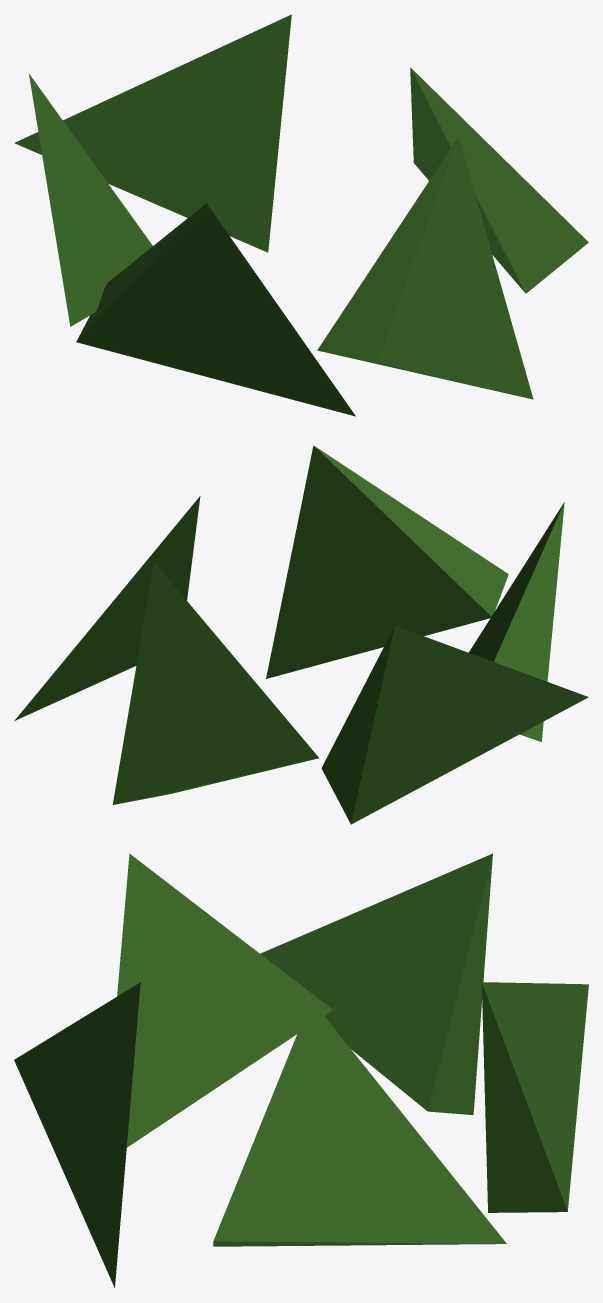
File: bush_fern.glb
The picture shows the model from 3 angles, top to bottom: view 1: azimuth 30°, elevation 25°; view 2: azimuth 150°, elevation 25°; view 3: azimuth 270°, elevation 25°; orthographic projection. The views are drawn at different scales.
Parts seen in each view (by area): view 1: BushFern; view 2: BushFern; view 3: BushFern.
Boxes of the visible parts, x1=… form: BushFern: x1=14, y1=14, x2=588, y2=416; BushFern: x1=14, y1=445, x2=588, y2=824; BushFern: x1=14, y1=853, x2=588, y2=1287.
Size of the model in its own units: 0.9725 by 0.4964 by 0.9392.
